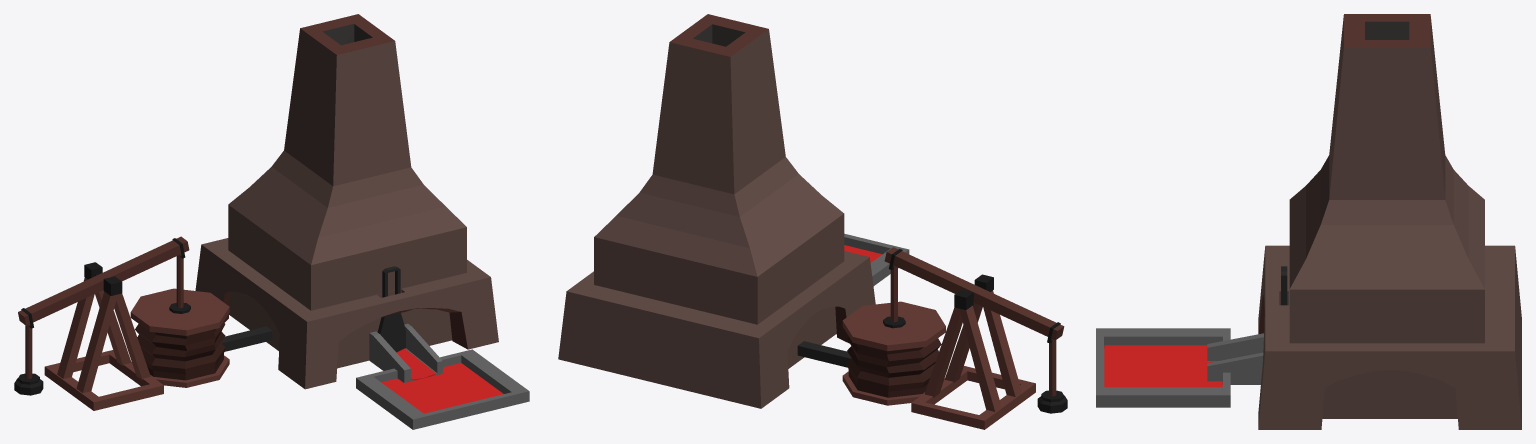
File: iron_foundry_3.fbx
3 renders of one model, left to right at view 1: azimuth 30°, elevation 25°; view 2: azimuth 150°, elevation 25°; view 3: azimuth 270°, elevation 25°, orthographic. The views are drawn at different scales.
Visible parts, largest first — view 1: Domen, stand, bellows, pool, beam, door, plumb, basis, lava; view 2: Domen, stand, bellows, beam, plumb, basis; view 3: Domen, pool.
Boxes of the visible parts, x1,y1,x2,y2 form: Domen: (195, 14, 529, 429); stand: (44, 262, 163, 410); bellows: (130, 288, 229, 380); pool: (381, 363, 503, 413); beam: (18, 236, 189, 328); door: (377, 266, 405, 352); plumb: (14, 324, 43, 395); basis: (150, 355, 229, 387); lava: (396, 348, 435, 380); Domen: (558, 14, 909, 408); stand: (911, 274, 1035, 429); bellows: (842, 301, 945, 397); beam: (884, 247, 1064, 343); plumb: (1037, 338, 1067, 413); basis: (842, 371, 924, 405); Domen: (1096, 14, 1521, 429); pool: (1104, 345, 1222, 387).
Bounding box in the file's own units: 337 × 220 × 247.
